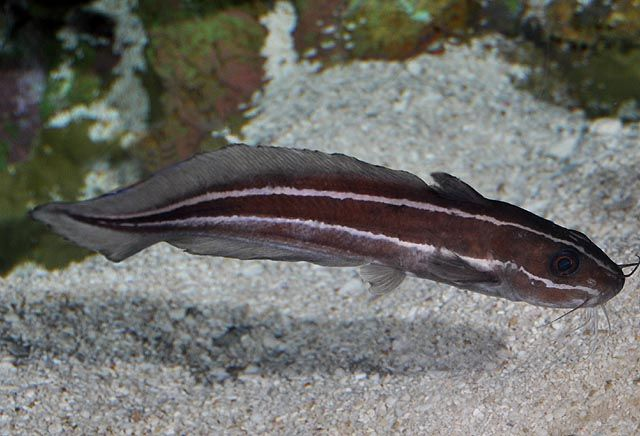fish: (30, 143, 626, 311)
